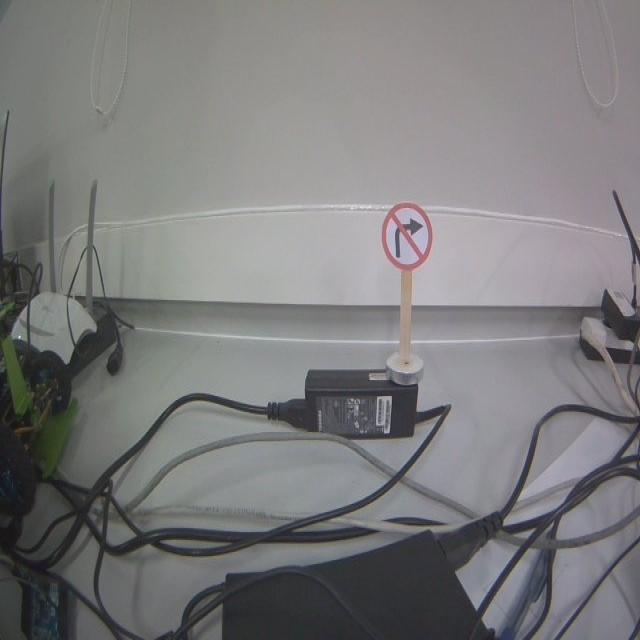Dilarang Belok Kanan: (383, 203, 431, 268)
